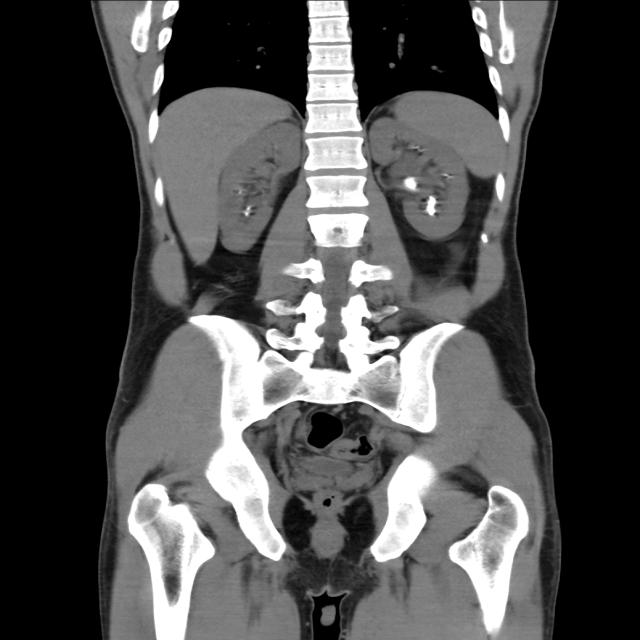kidneystone: (426, 196, 437, 216), (403, 178, 415, 190)
